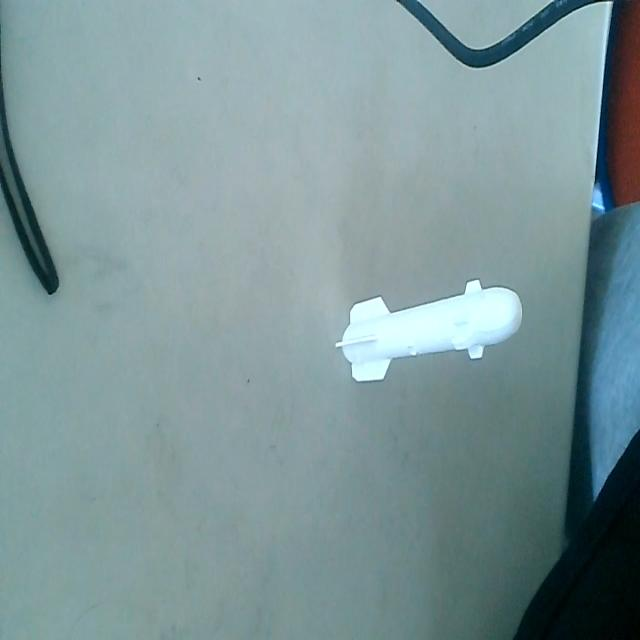Rocket: (334, 278, 526, 393)
